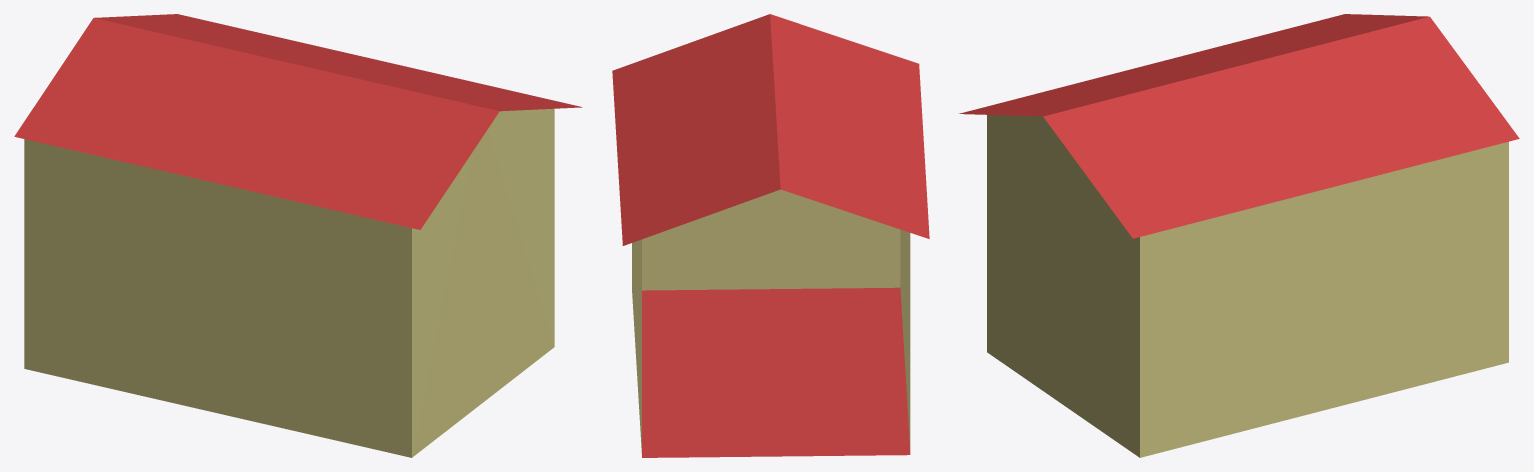
The picture shows the model from 3 angles, left to right: view 1: azimuth 30°, elevation 25°; view 2: azimuth 150°, elevation 25°; view 3: azimuth 270°, elevation 25°; orthographic projection. The views are drawn at different scales.
Bounding box in the file's own units: 18.66 × 20.07 × 11.49.
